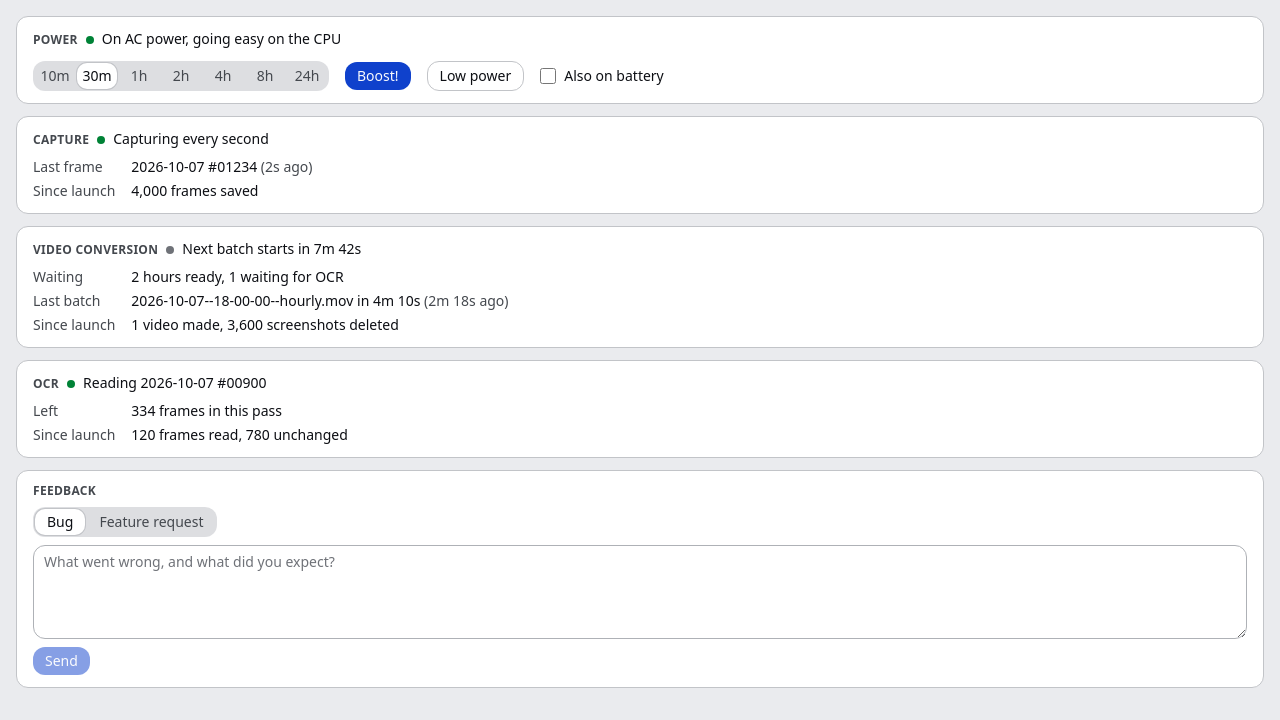
ActivityView › low-power mode › turns conversion and OCR off for the chosen length
The image size is (1280, 720).
Click the button "24h" at (307, 76), box [287,63,327,89]
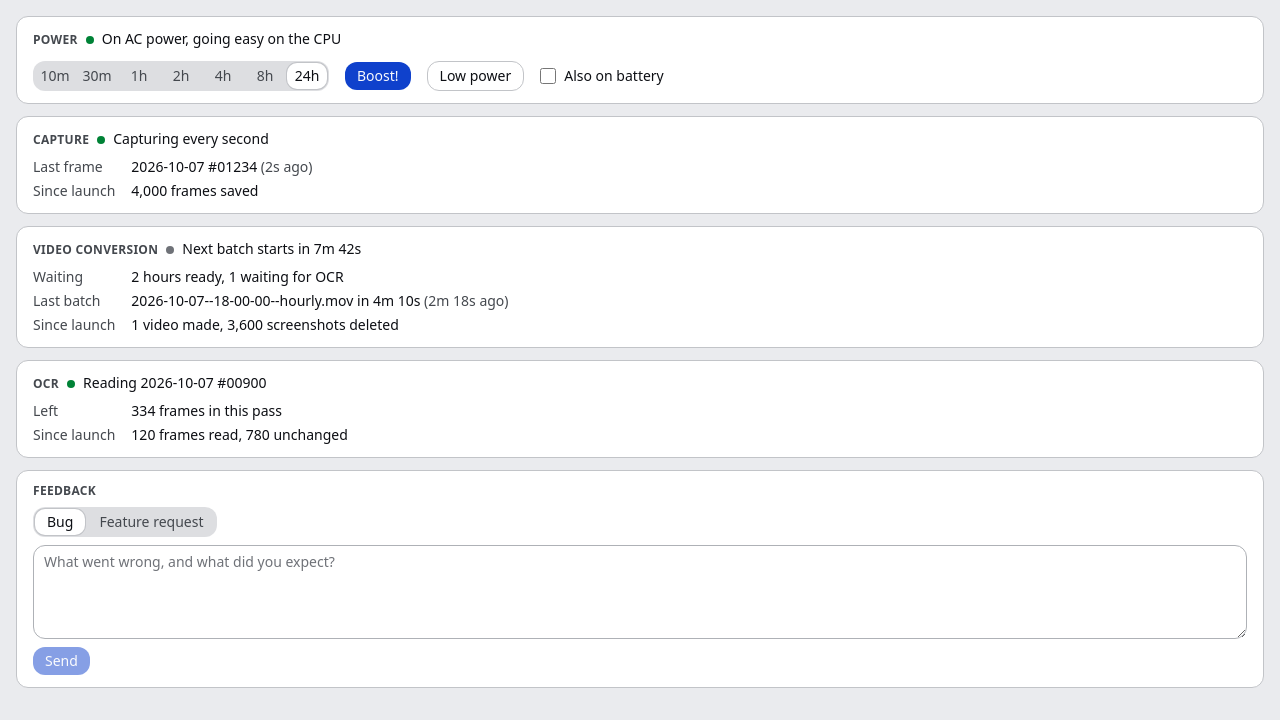
Click the button "Low power" at (475, 76), box [427,61,524,91]
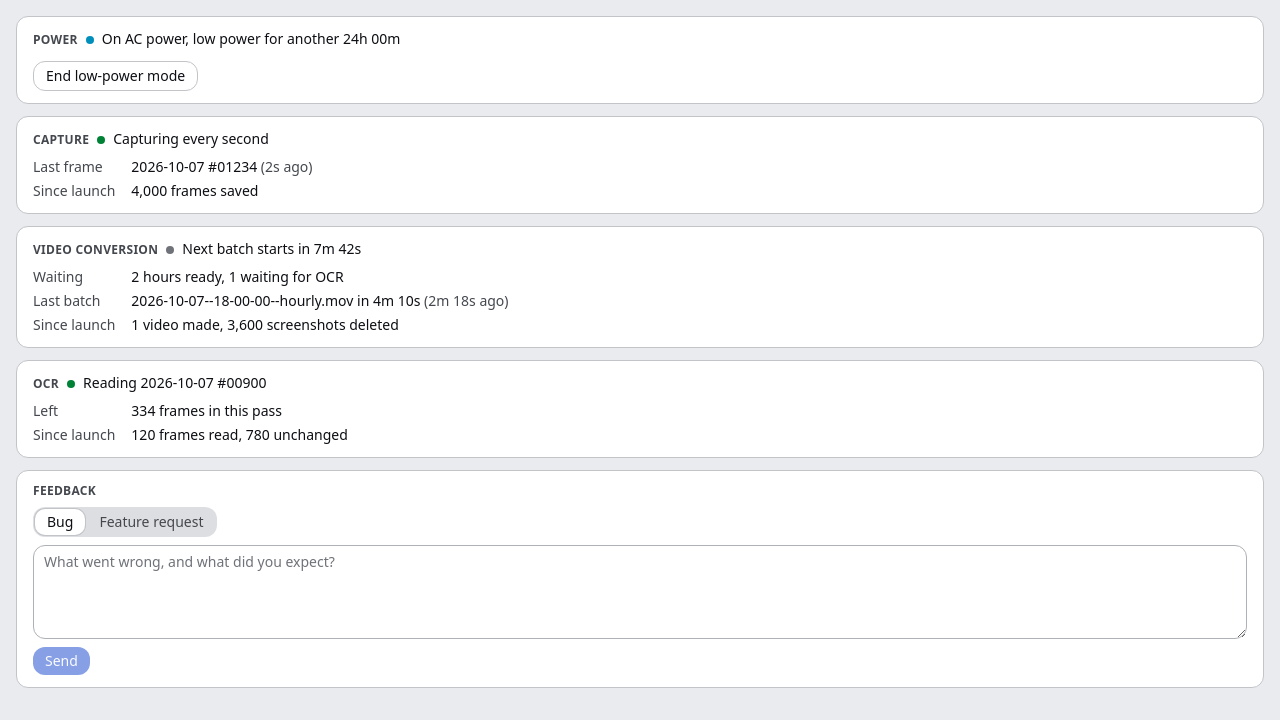
Check: the text with test id "Power-headline" reads "On AC power, low power for another 24h 00m", box [102,29,400,48]
Check: the button "Boost!" is gone
Check: the label "Also on battery" is gone
